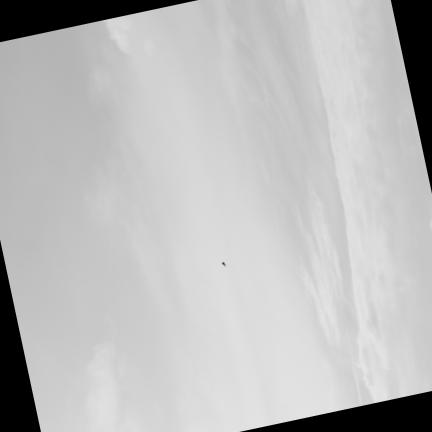Shahed: (221, 260, 227, 267)
